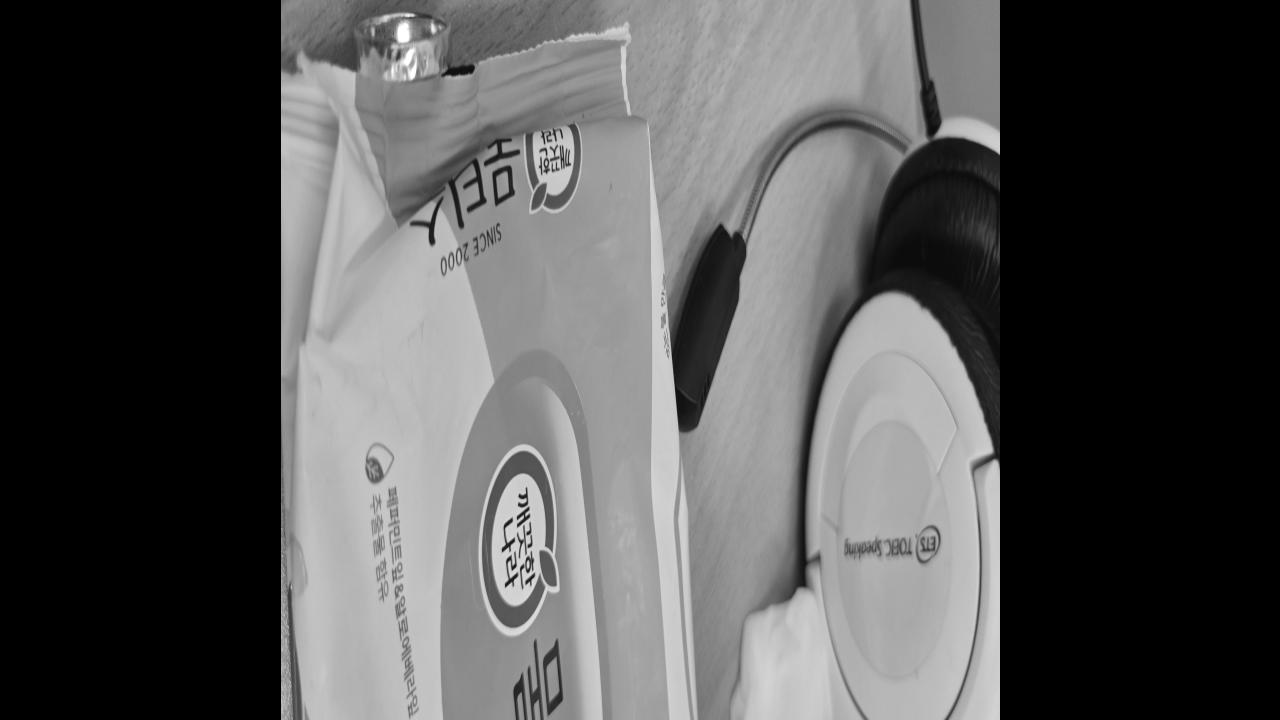ring: (356, 6, 449, 86)
